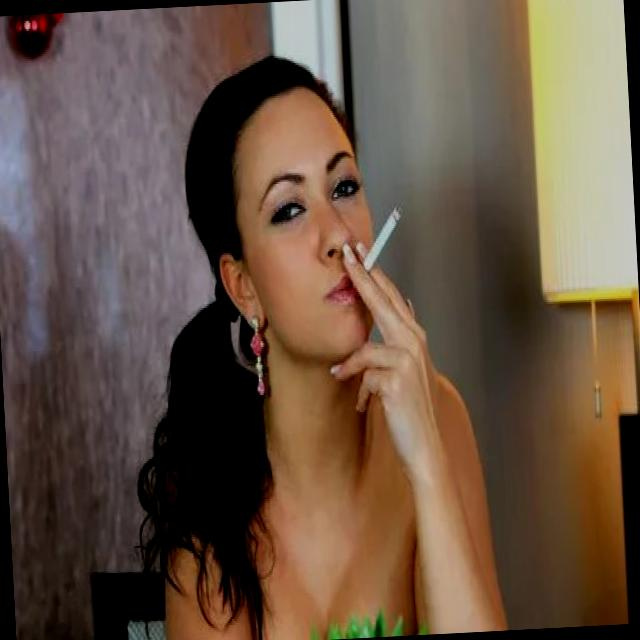cigarette: (361, 200, 406, 278)
